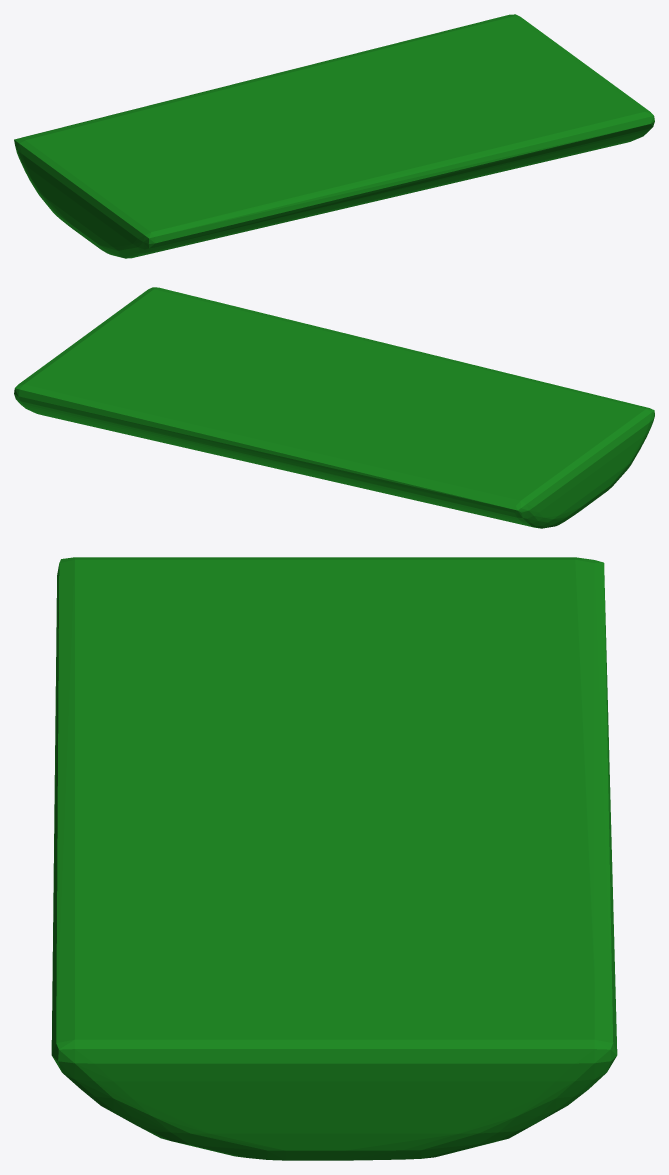
File: left_elbow_link_part_8.obj
3 renders of one model, top to bottom at view 1: azimuth 30°, elevation 25°; view 2: azimuth 150°, elevation 25°; view 3: azimuth 270°, elevation 25°, orthographic. The views are drawn at different scales.
Size of the model in its own units: 0.0905 by 0.01 by 0.0436.
